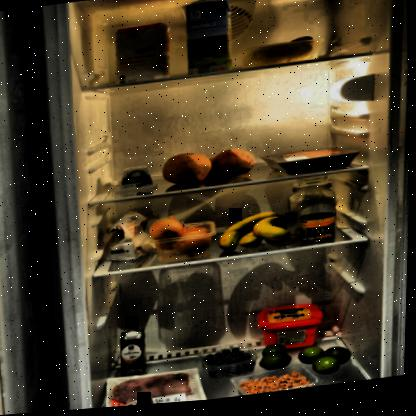banana: (218, 212, 309, 259)
beef: (259, 148, 364, 183)
blueberries: (198, 343, 264, 385)
butter: (256, 305, 327, 357)
corn: (300, 216, 338, 250)
heavy_cream: (121, 330, 150, 378)
lime: (260, 340, 356, 387)
milk: (178, 0, 234, 86)
onion: (149, 213, 219, 265)
potato: (249, 37, 324, 73)
shrimp: (239, 375, 315, 399)
sweet_potato: (157, 143, 259, 194)
